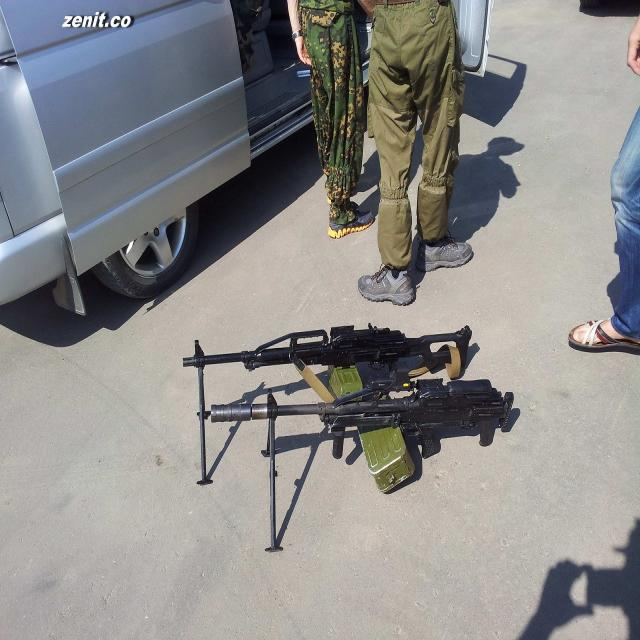firearm: (209, 393, 515, 459), (185, 324, 471, 386)
